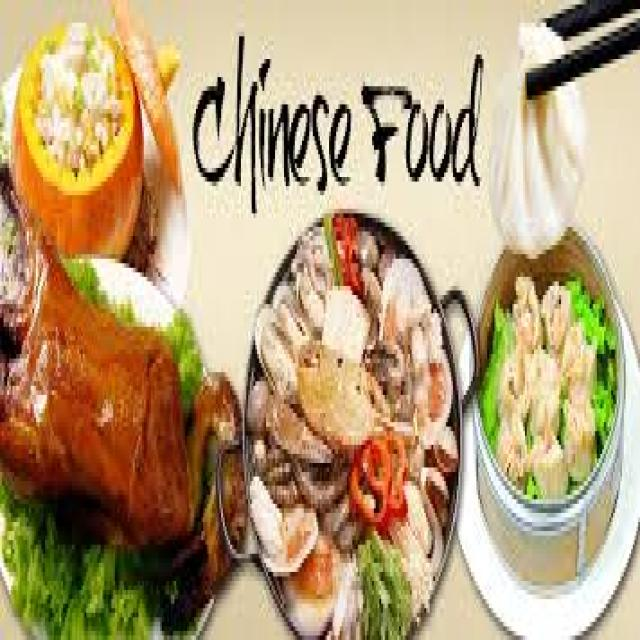Organik: (262, 213, 450, 640), (0, 229, 202, 576), (22, 28, 158, 237), (495, 276, 605, 485), (502, 29, 586, 248)
